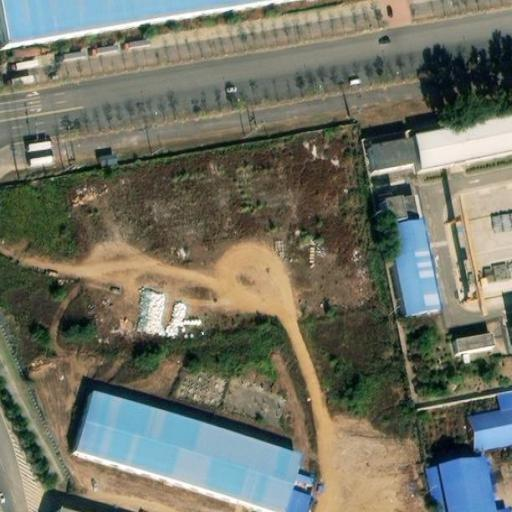building: (75, 392, 316, 512), (388, 218, 440, 319), (416, 113, 512, 167), (427, 456, 508, 512), (468, 392, 512, 452), (371, 138, 422, 171), (384, 193, 421, 224), (456, 334, 494, 355), (98, 150, 120, 168), (496, 351, 512, 375)
